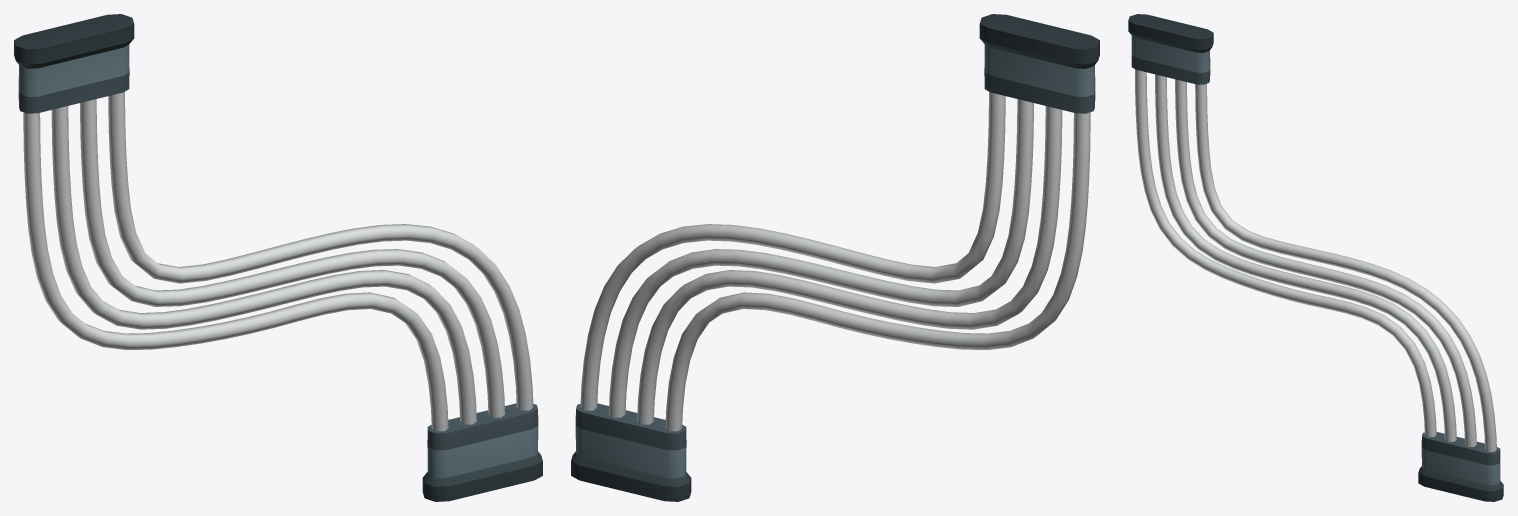
File: Cable_type_B_001.fbx
3 renders of one model, left to right at view 1: azimuth 30°, elevation 25°; view 2: azimuth 150°, elevation 25°; view 3: azimuth 330°, elevation 25°, orthographic. The views are drawn at different scales.
Parts seen in each view (by area): view 1: Cable_type_B_001; view 2: Cable_type_B_001; view 3: Cable_type_B_001.
Part boxes in pixels (bbox=[...]): Cable_type_B_001: bbox=[14, 14, 542, 501]; Cable_type_B_001: bbox=[571, 14, 1099, 501]; Cable_type_B_001: bbox=[1128, 14, 1503, 501].
Size of the model in its own units: 130 by 7.83 by 131.
